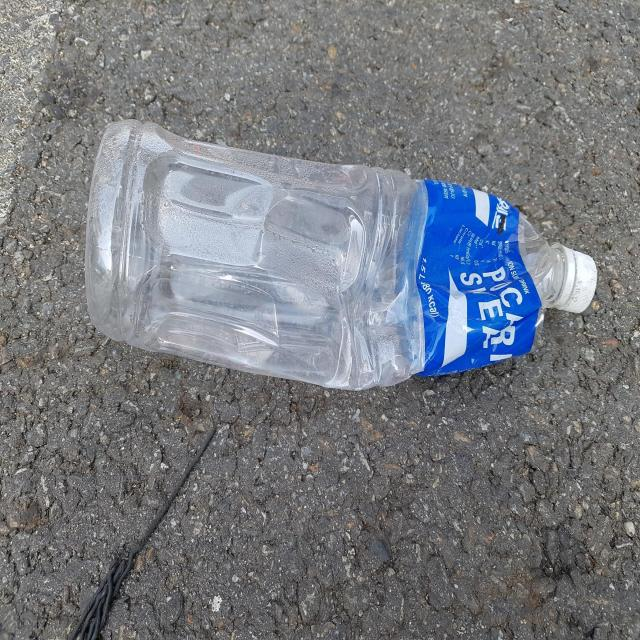plastic: (85, 120, 598, 390)
